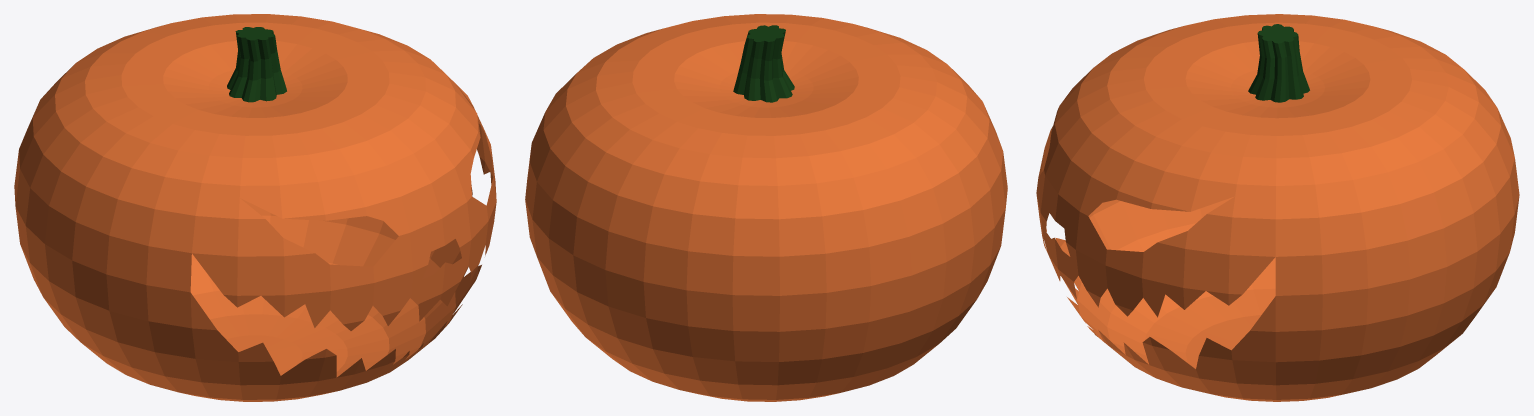
File: pumpkin_1.glb
3 renders of one model, left to right at view 1: azimuth 30°, elevation 25°; view 2: azimuth 150°, elevation 25°; view 3: azimuth 270°, elevation 25°, orthographic.
Parts seen in each view (by area): view 1: Pumpkin, Cylinder; view 2: Pumpkin, Cylinder; view 3: Pumpkin, Cylinder.
Boxes of the visible parts, bbox=[...] form: Pumpkin: bbox=[14, 14, 496, 401]; Cylinder: bbox=[227, 27, 286, 102]; Pumpkin: bbox=[525, 14, 1007, 401]; Cylinder: bbox=[733, 25, 794, 102]; Pumpkin: bbox=[1036, 14, 1519, 401]; Cylinder: bbox=[1248, 24, 1309, 102].
Bounding box in the file's own units: 0.9103 × 0.6711 × 0.9103.
